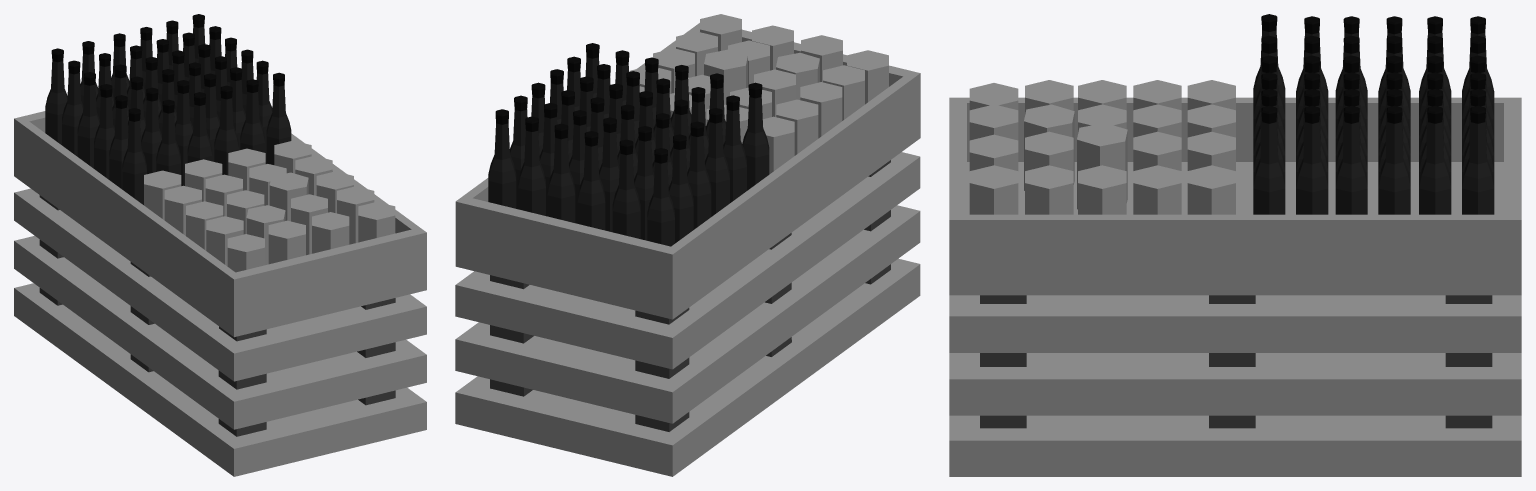
Rendered from food_stack_F.FBX.
3 renders of one model, left to right at view 1: azimuth 30°, elevation 25°; view 2: azimuth 150°, elevation 25°; view 3: azimuth 270°, elevation 25°, orthographic. The views are drawn at different scales.
Visible parts, largest first — view 1: food_stack_F; view 2: food_stack_F; view 3: food_stack_F.
Part boxes in pixels (x1,y1,x2,y2): food_stack_F: (14,14,426,476); food_stack_F: (455,14,920,476); food_stack_F: (949,14,1521,476).
Size of the model in its own units: 39.77 by 53.37 by 78.58.
